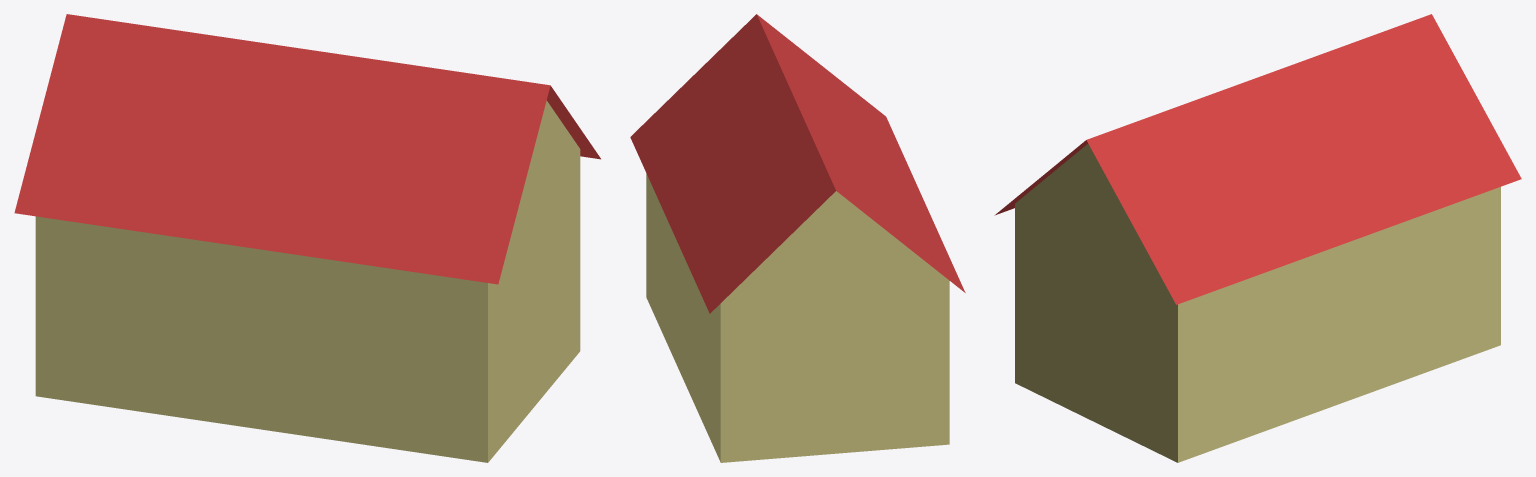
3 renders of one model, left to right at view 1: azimuth 30°, elevation 25°; view 2: azimuth 150°, elevation 25°; view 3: azimuth 270°, elevation 25°, orthographic. The views are drawn at different scales.
Size of the model in its own units: 25.74 by 26.67 by 16.05.
